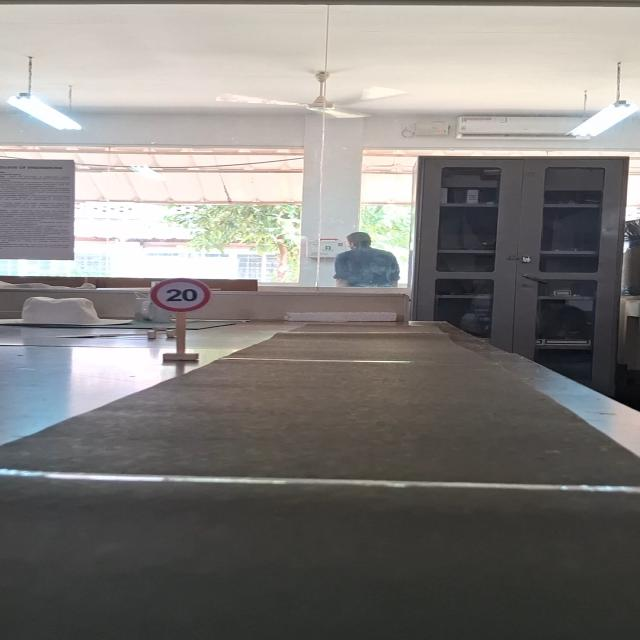Speed20: (146, 277, 213, 313)
